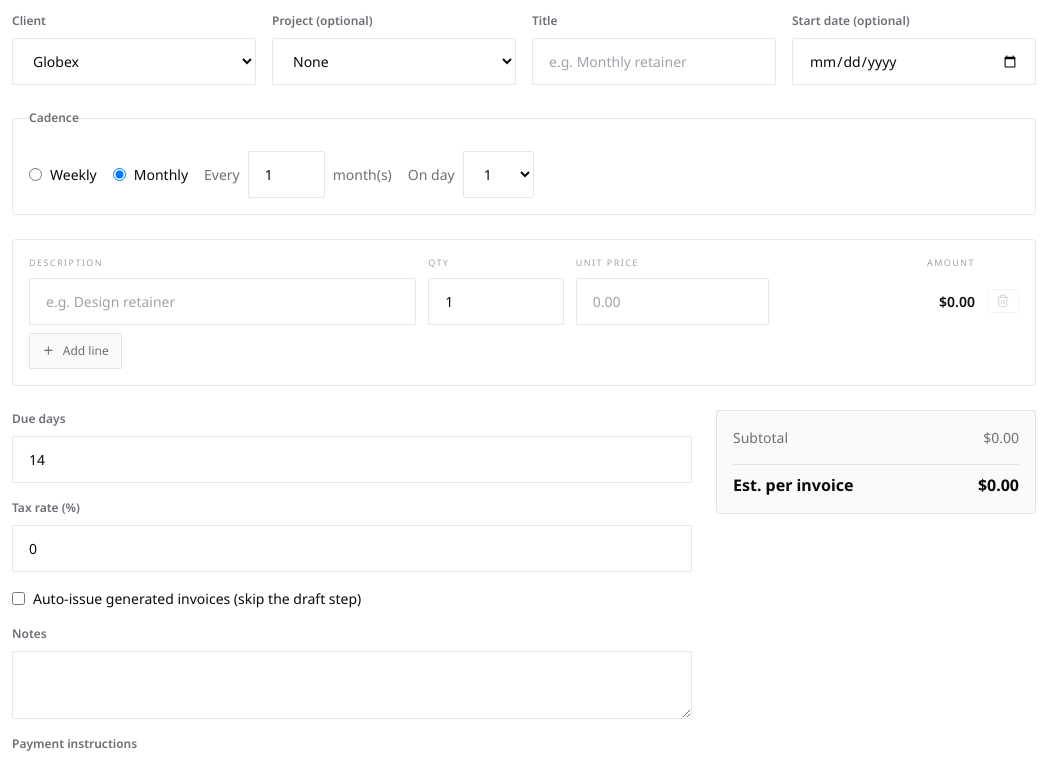
Test case: RecurringScheduleForm › switches to the weekday field when weekly is chosen
Click the radio button labelled "Weekly".
click(36, 174)  # box x1=29 y1=168 x2=42 y2=181
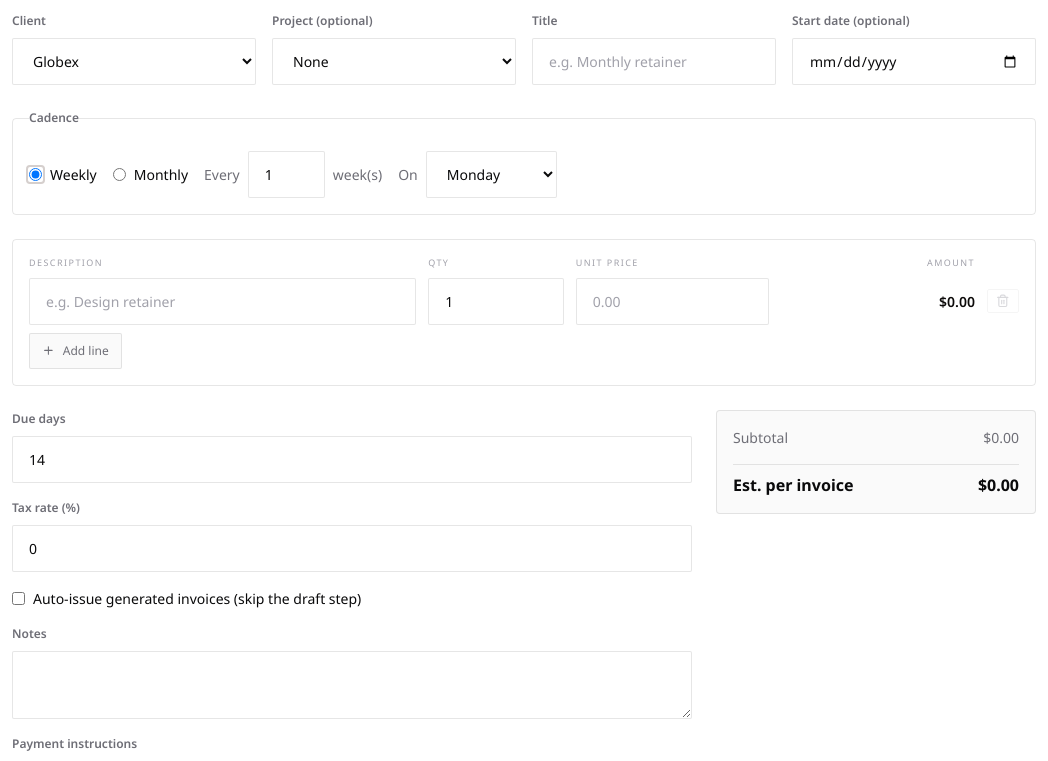
Now the dropdown named "Weekday" is shown, box x1=426 y1=151 x2=557 y2=198
